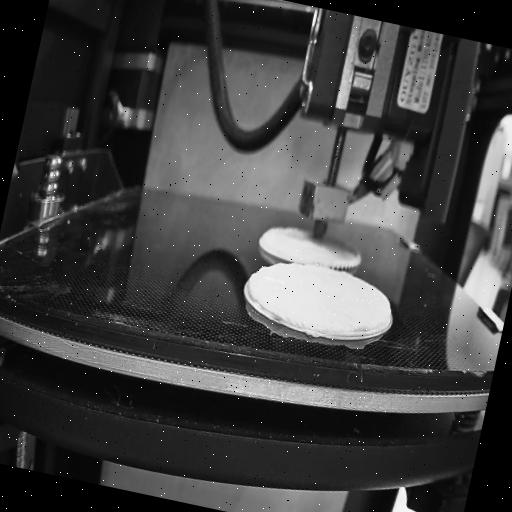over_extrusion: (238, 270, 264, 314)
